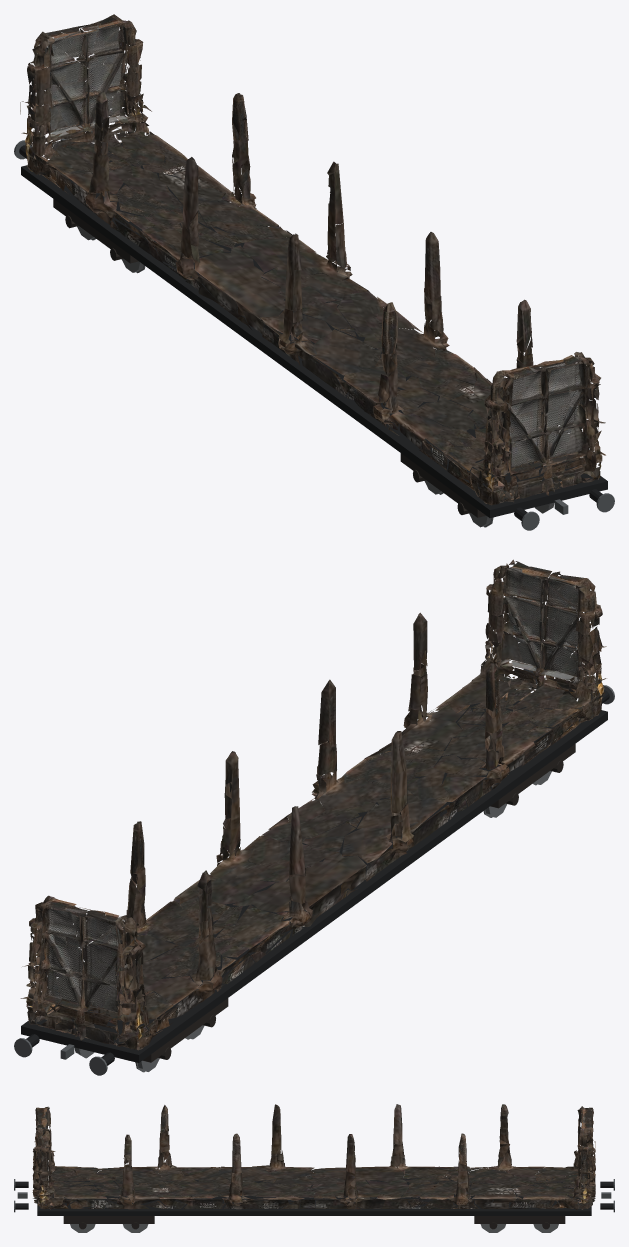
Rendered from roos_m.glb.
3 renders of one model, top to bottom at view 1: azimuth 30°, elevation 25°; view 2: azimuth 150°, elevation 25°; view 3: azimuth 270°, elevation 25°, orthographic. The views are drawn at different scales.
Parts seen in each view (by area): view 1: roos_kori, roos_frame, Bogie_F_side-1, Bogie_R_side-1; view 2: roos_kori, roos_frame, Bogie_R_side-1, Bogie_F_side-1; view 3: roos_kori, roos_frame, Bogie_F_side1, Bogie_R_side1.
Part boxes in pixels (x1,y1,x2,y2): roos_kori: [20, 14, 605, 505]; roos_frame: [21, 142, 607, 517]; Bogie_F_side-1: [400, 453, 485, 517]; Bogie_R_side-1: [53, 199, 138, 263]; roos_kori: [20, 559, 606, 1050]; roos_frame: [21, 689, 607, 1062]; Bogie_R_side-1: [143, 998, 228, 1062]; Bogie_F_side-1: [490, 744, 575, 808]; roos_kori: [32, 1104, 595, 1209]; roos_frame: [37, 1177, 591, 1215]; Bogie_F_side1: [63, 1216, 154, 1223]; Bogie_R_side1: [474, 1216, 565, 1223].
Bounding box in the file's own units: 3.02 × 3.99 × 20.49.
Materials: 5 (1 with a texture image).
